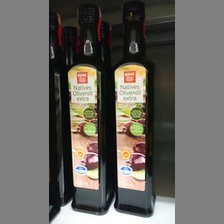oil: (68, 8, 113, 215), (114, 6, 157, 217)
